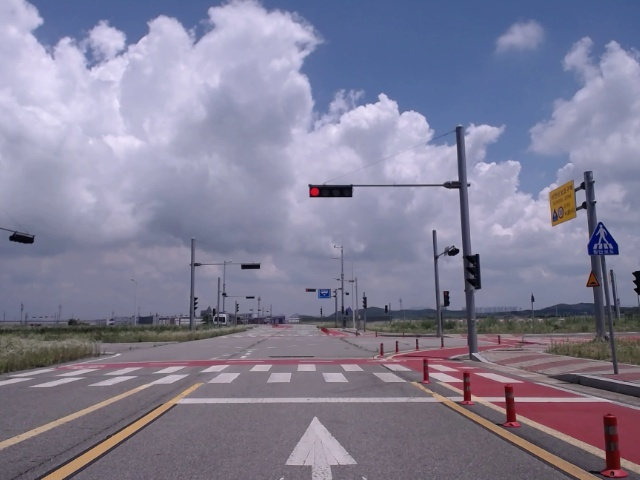red_4: (310, 185, 352, 198)
